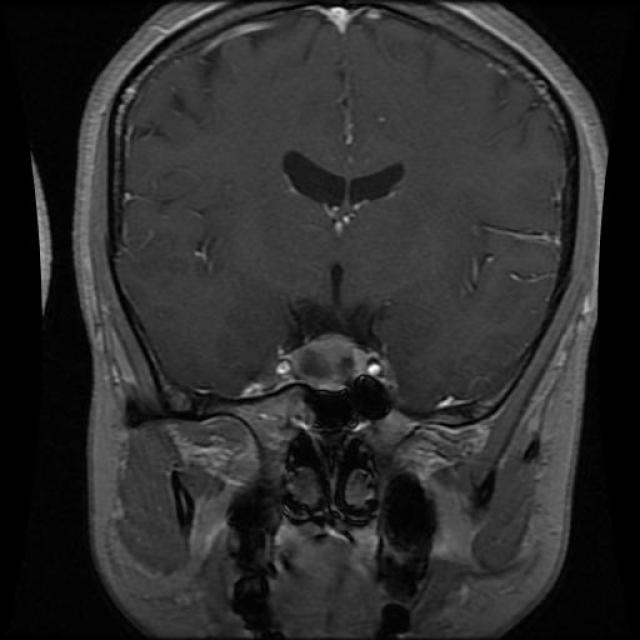pituitary: (259, 275, 400, 378)
